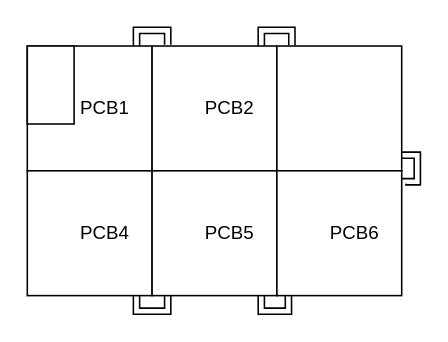
Some shapes in this 448 by 342 pixel diagram are drawn without their labels. Here are the shapes that lost their labels. From the top down, the box of each, then its label:
(26, 44, 74, 124): Power Supply
(275, 44, 402, 171): PCB3
